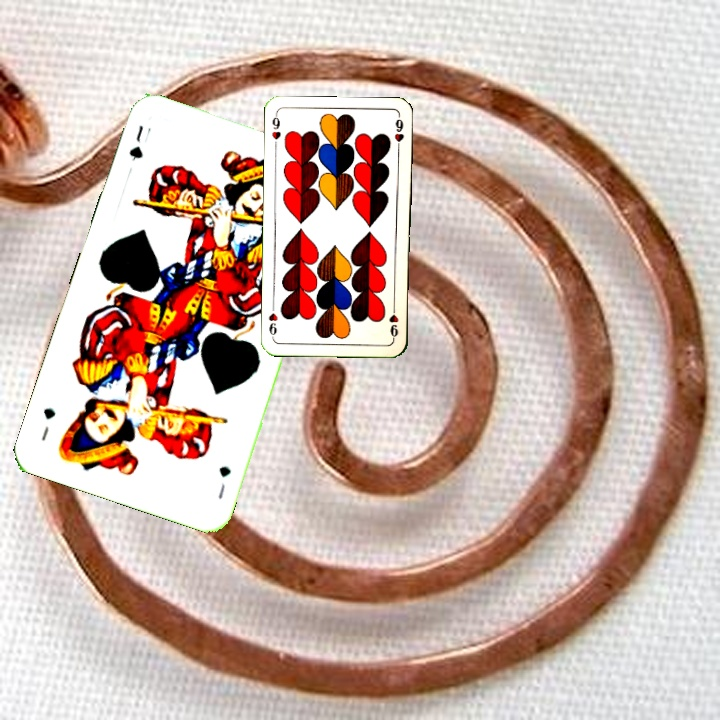GU: (124, 121, 154, 163), (213, 462, 234, 502)
H9: (385, 301, 401, 341), (268, 111, 284, 151)
